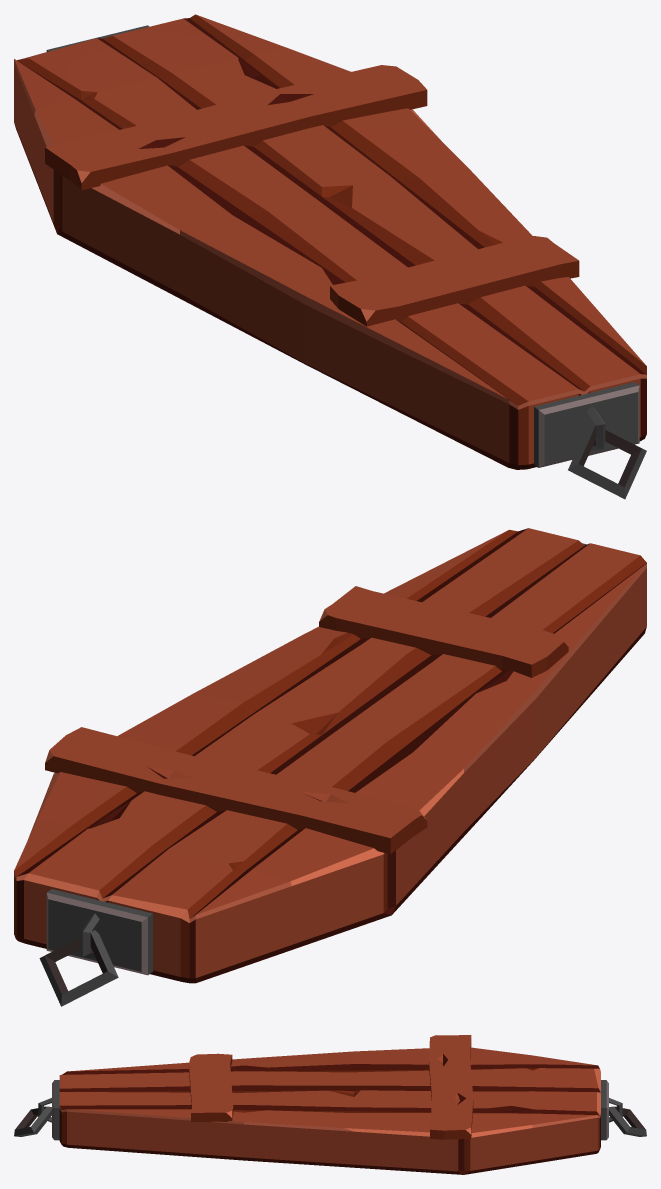
The model's file is HWN20_CoffinTop.gltf.
The picture shows the model from 3 angles, top to bottom: view 1: azimuth 30°, elevation 25°; view 2: azimuth 150°, elevation 25°; view 3: azimuth 270°, elevation 25°; orthographic projection. The views are drawn at different scales.
Parts seen in each view (by area): view 1: HWN20_CoffinTop_glb; view 2: HWN20_CoffinTop_glb; view 3: HWN20_CoffinTop_glb.
Boxes of the visible parts, x1,y1,x2,y2 form: HWN20_CoffinTop_glb: (14, 14, 646, 499); HWN20_CoffinTop_glb: (14, 528, 646, 1006); HWN20_CoffinTop_glb: (14, 1035, 646, 1174).
Size of what is drawn, in the model's own units: 1.23 by 0.3286 by 3.44.
1 material, 1 textured.
